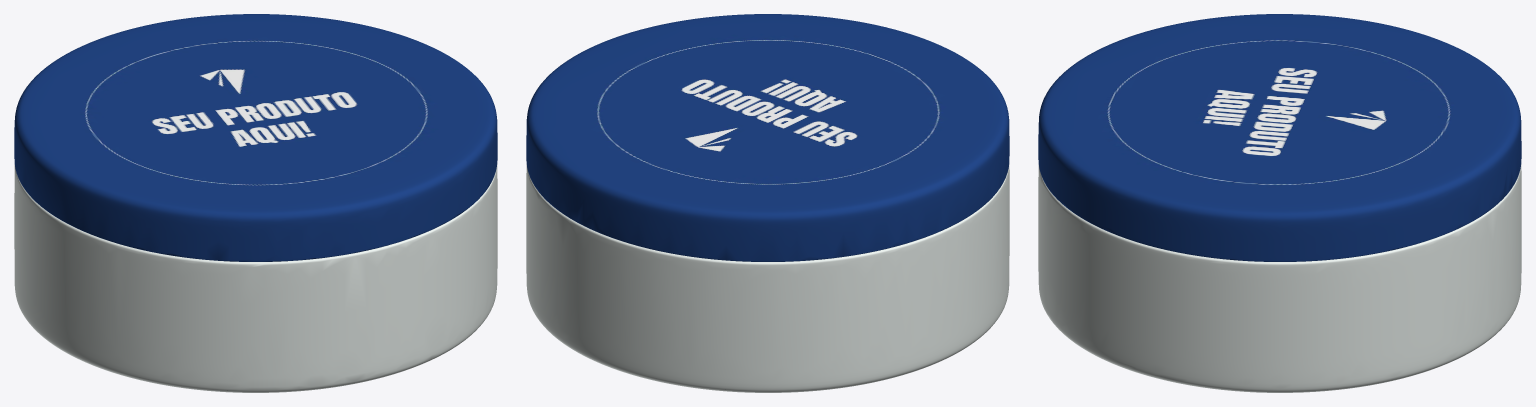
Rendered from pote02.glb.
3 views of the same model, side by side, from view 1: azimuth 30°, elevation 25°; view 2: azimuth 150°, elevation 25°; view 3: azimuth 270°, elevation 25° (orthographic).
Visible parts, largest first — view 1: Circle.007, Circle.006; view 2: Circle.007, Circle.006; view 3: Circle.007, Circle.006.
Part boxes in pixels (bbox=[...]): Circle.007: bbox=[14, 14, 497, 261]; Circle.006: bbox=[14, 165, 497, 392]; Circle.007: bbox=[526, 14, 1009, 261]; Circle.006: bbox=[526, 165, 1009, 392]; Circle.007: bbox=[1038, 14, 1521, 261]; Circle.006: bbox=[1038, 165, 1521, 392].
Size of the model in its own units: 0.7655 by 0.3176 by 0.7655.
2 materials, 1 textured.
